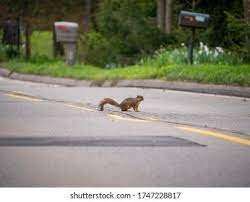squirrel: (99, 93, 145, 113)
